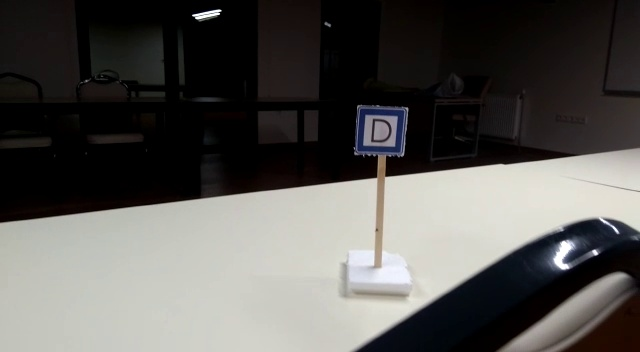durak: (354, 107, 409, 154)
